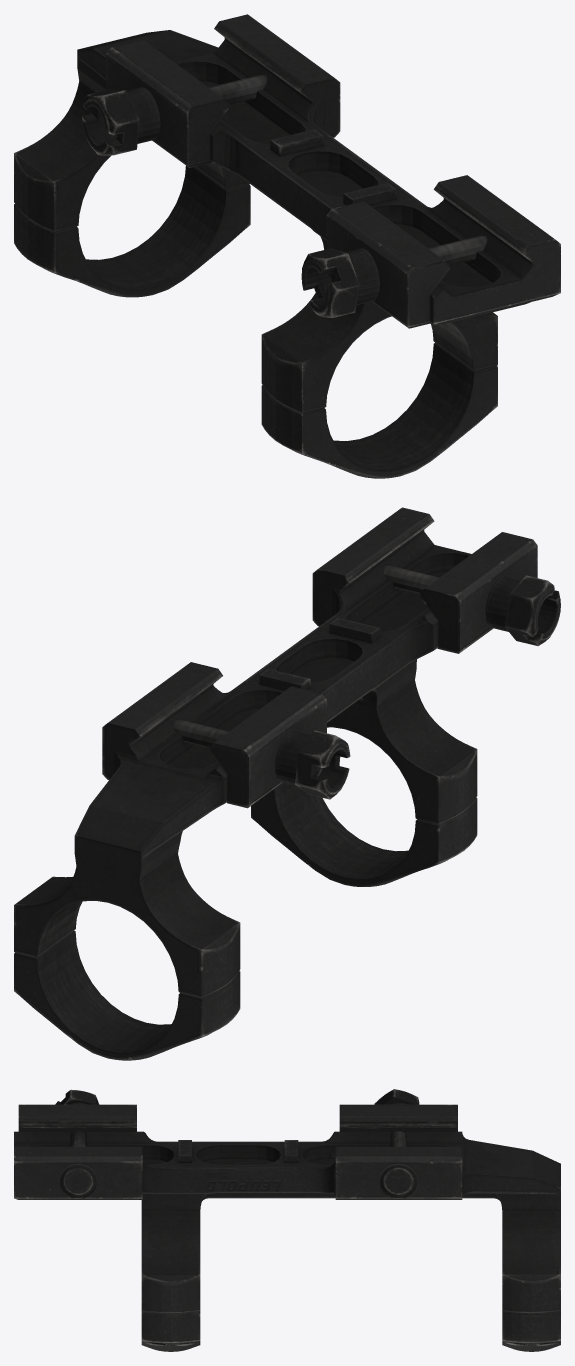
3 views of the same model, one above another, from view 1: azimuth 30°, elevation 25°; view 2: azimuth 150°, elevation 25°; view 3: azimuth 270°, elevation 25° (orthographic). The views are drawn at different scales.
Visible parts, largest first — view 1: TW_6761759e7ee06333f108bf86_PZ_Import; view 2: TW_6761759e7ee06333f108bf86_PZ_Import; view 3: TW_6761759e7ee06333f108bf86_PZ_Import.
Part boxes in pixels (left/top/right/bottom): TW_6761759e7ee06333f108bf86_PZ_Import: left=14, top=14, right=560, bottom=478; TW_6761759e7ee06333f108bf86_PZ_Import: left=14, top=507, right=560, bottom=1060; TW_6761759e7ee06333f108bf86_PZ_Import: left=14, top=1089, right=560, bottom=1351.
Bounding box in the file's own units: 0.0318 × 0.0888 × 0.0376.
1 material, 1 textured.
